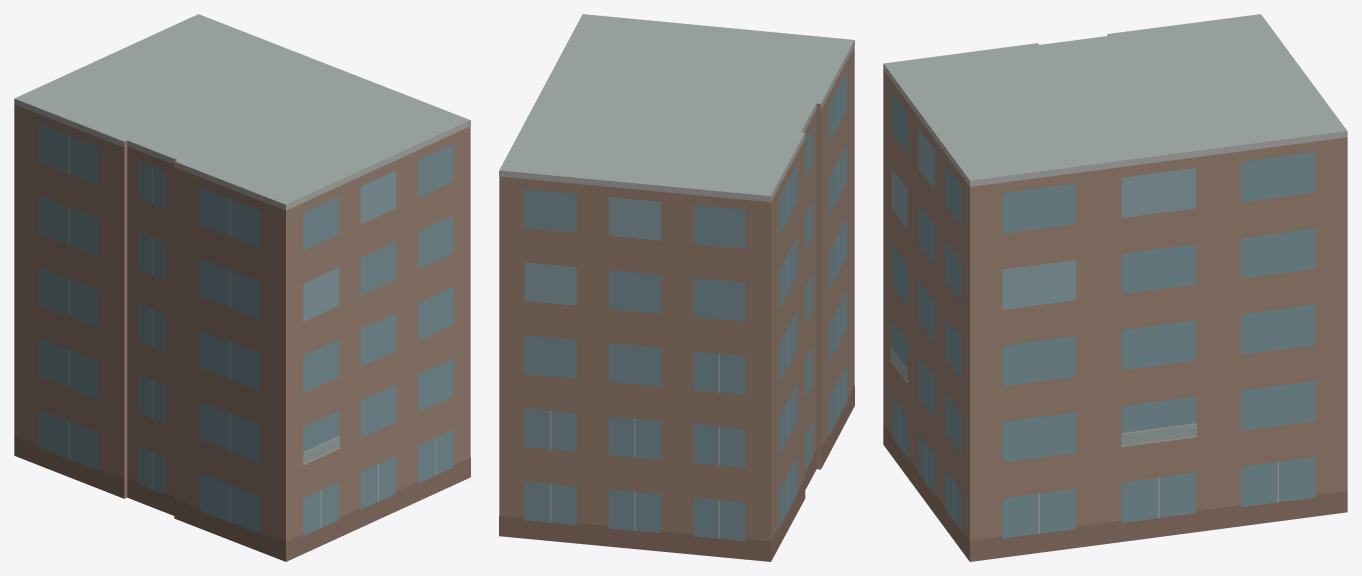
Rendered from survey-upis-32655019.glb.
3 renders of one model, left to right at view 1: azimuth 30°, elevation 25°; view 2: azimuth 150°, elevation 25°; view 3: azimuth 270°, elevation 25°, orthographic. The views are drawn at different scales.
Parts seen in each view (by area): view 1: survey-upis-32655019.tmp; view 2: survey-upis-32655019.tmp; view 3: survey-upis-32655019.tmp.
Boxes of the visible parts, x1,y1,x2,y2 form: survey-upis-32655019.tmp: [14, 14, 470, 561]; survey-upis-32655019.tmp: [499, 14, 854, 561]; survey-upis-32655019.tmp: [883, 14, 1347, 561].
Bounding box in the file's own units: 13.99 × 14.9 × 16.46.
